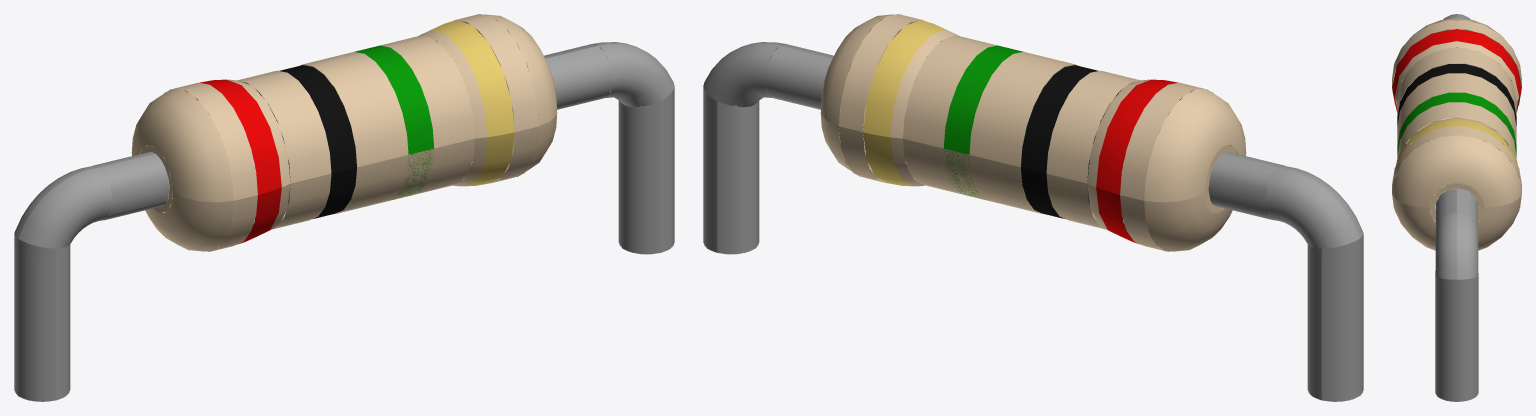
File: 紅黑綠R6.fbx
3 views of the same model, side by side, from view 1: azimuth 30°, elevation 25°; view 2: azimuth 150°, elevation 25°; view 3: azimuth 270°, elevation 25° (orthographic). The views are drawn at different scales.
Parts seen in each view (by area): view 1: nurbsToPoly261; view 2: nurbsToPoly261; view 3: nurbsToPoly261.
Boxes of the visible parts, <box> form: nurbsToPoly261: <box>14,14,674,401</box>; nurbsToPoly261: <box>703,14,1363,401</box>; nurbsToPoly261: <box>1392,14,1521,401</box>.
Bounding box in the file's own units: 3.19 × 1.21 × 0.7087.
